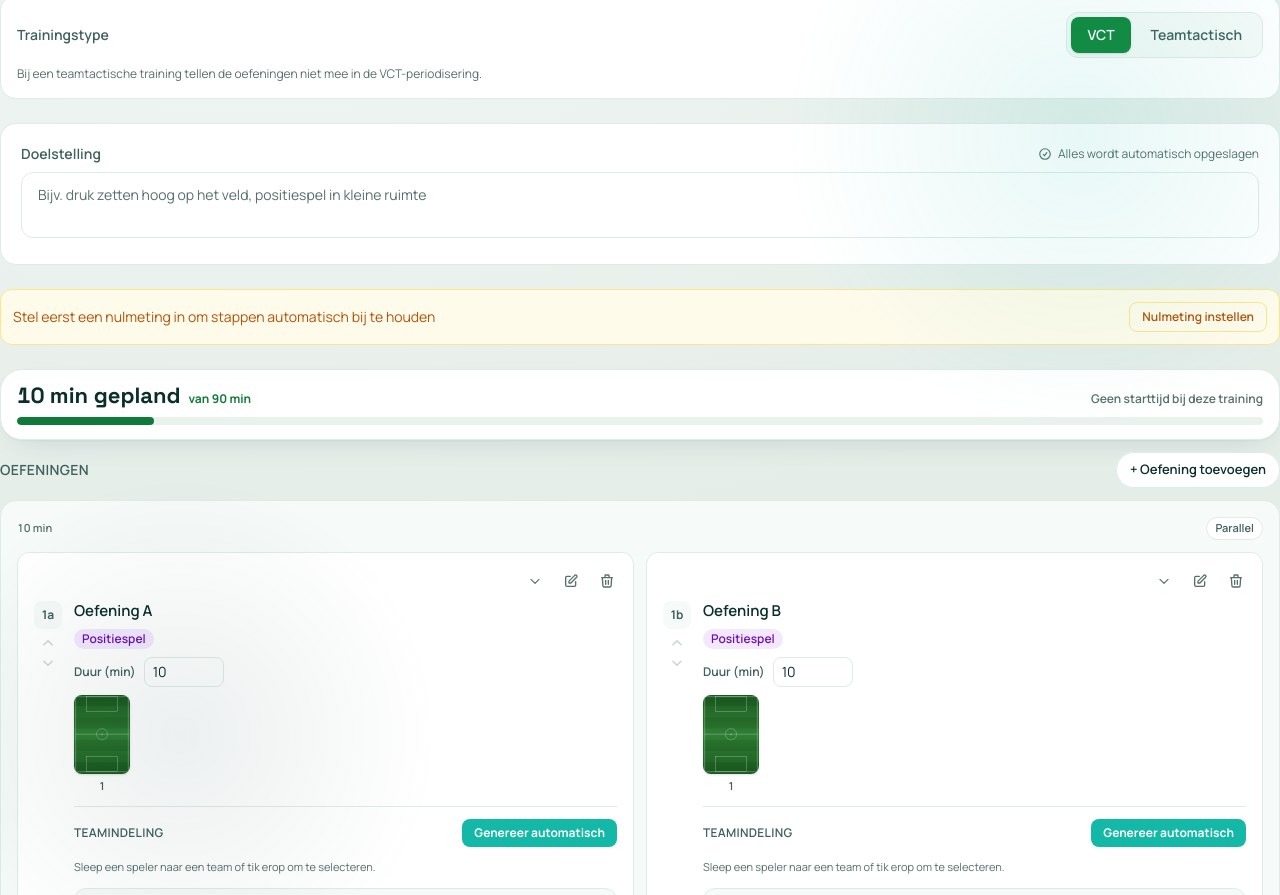
TrainingPlanEditor — "Parallel aan": faalpaden groep-mutaties › haalUitParallelGroep faalt: generieke melding (niet de rauwe fout) en de optimistische ontkoppeling rolt terug naar "Groep 1"
# k1 is het eerste lid van het (enige) blok, dus de eerste toggle.
Click the 1st button named "Details" at (535, 580), box [519, 564, 551, 596]
(page scrolled)
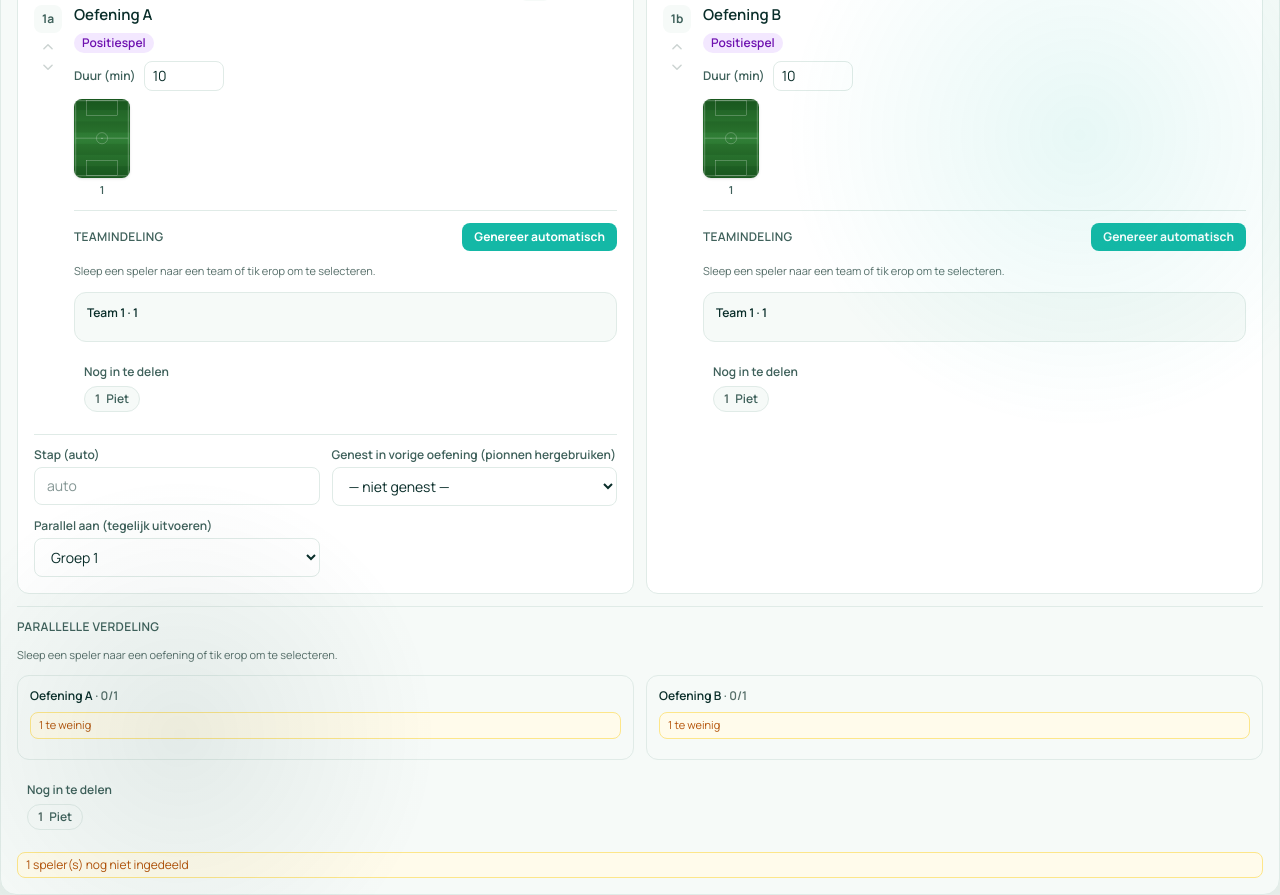
expect the dropdown below "Parallel aan (tegelijk uitvoeren)" shows "Groep 1": met
Select "— niet parallel —" in the dropdown below "Parallel aan (tegelijk uitvoeren)" at (177, 557), box [34, 538, 320, 576]
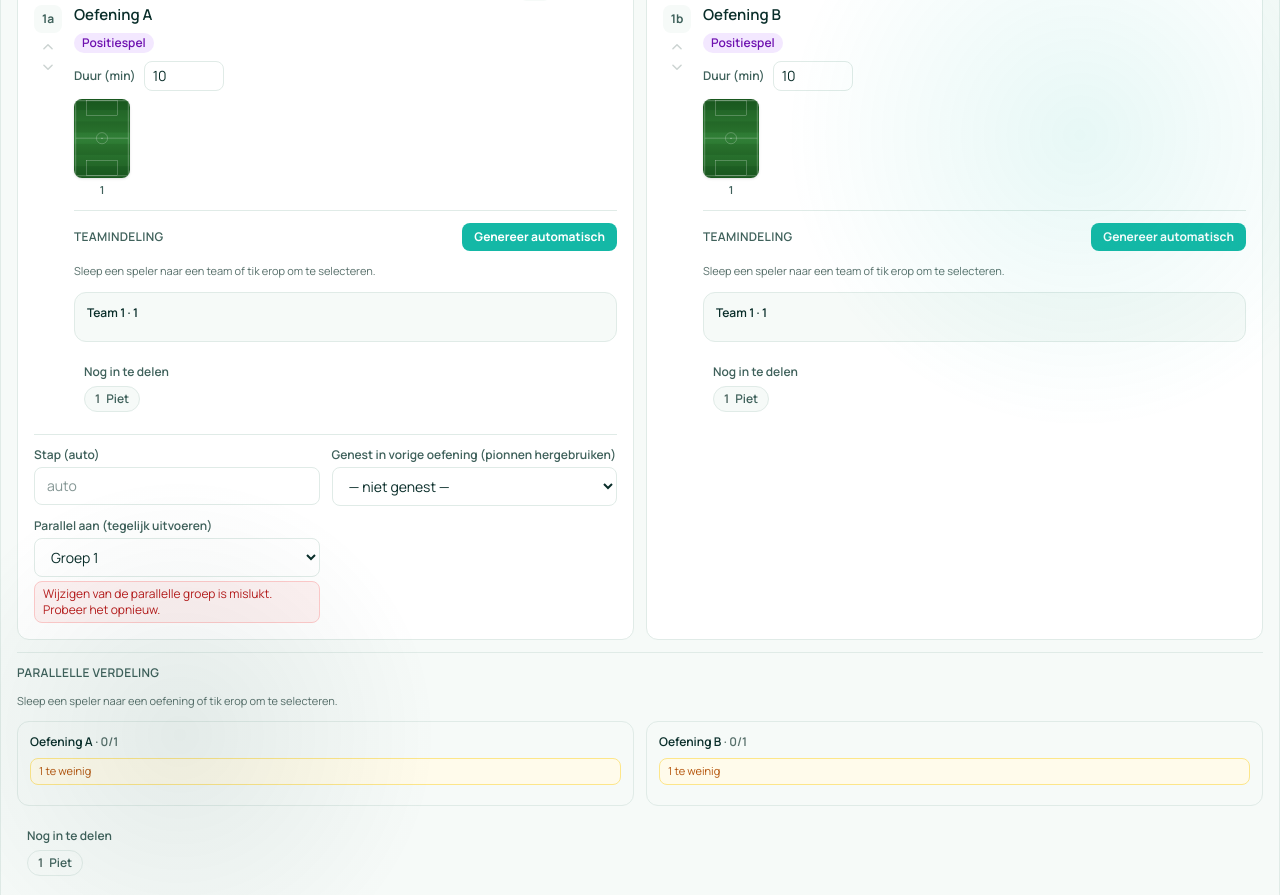
expect the 1st dropdown shows "— niet genest —": met, box [332, 466, 617, 506]
expect the dropdown below "Parallel aan (tegelijk uitvoeren)" shows "Groep 1": met, box [34, 538, 320, 576]
expect the text "Wijzigen van de parallelle groep is mislukt. Probeer het opnieuw." is shown: met, box [34, 580, 320, 622]
